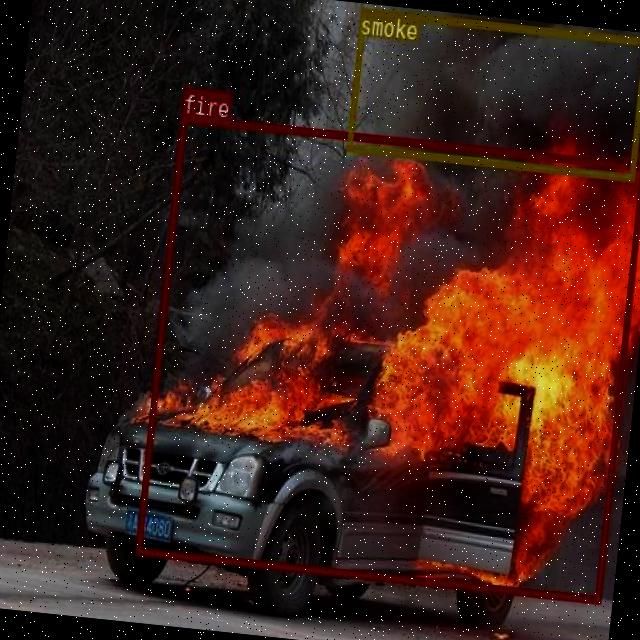fire: (134, 113, 640, 601)
smoke: (345, 6, 640, 179)
